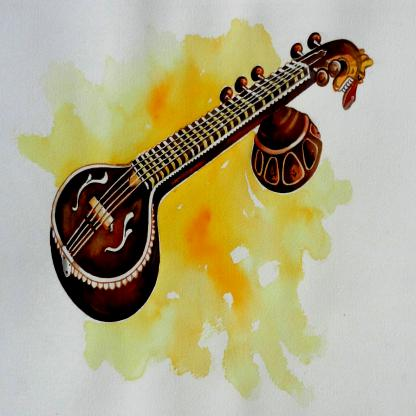Veena: (46, 77, 272, 316)
